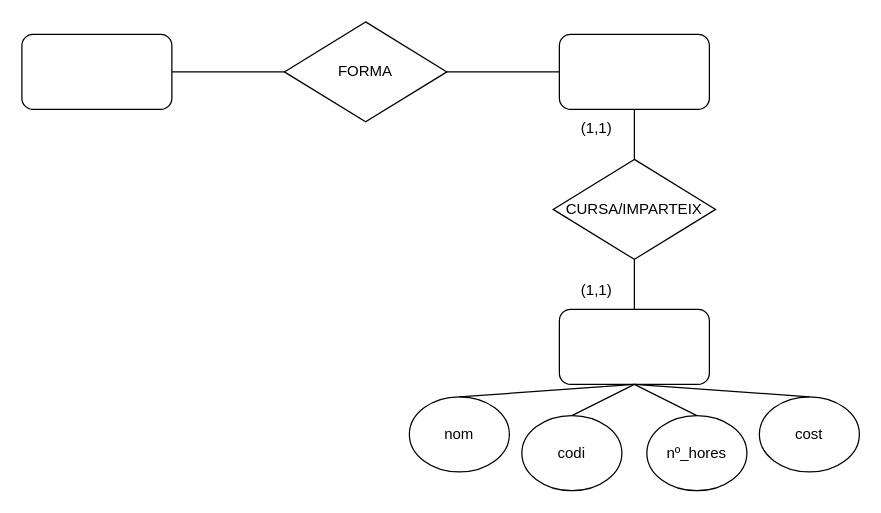
Image size: 881x513. Some labels were removed from this diagram. The centre of each missing label's shape, as x and y in pixels:
CURS: (x=633, y=346)
EMPLEAT: (x=633, y=71)
EMPRESA: (x=96, y=71)
